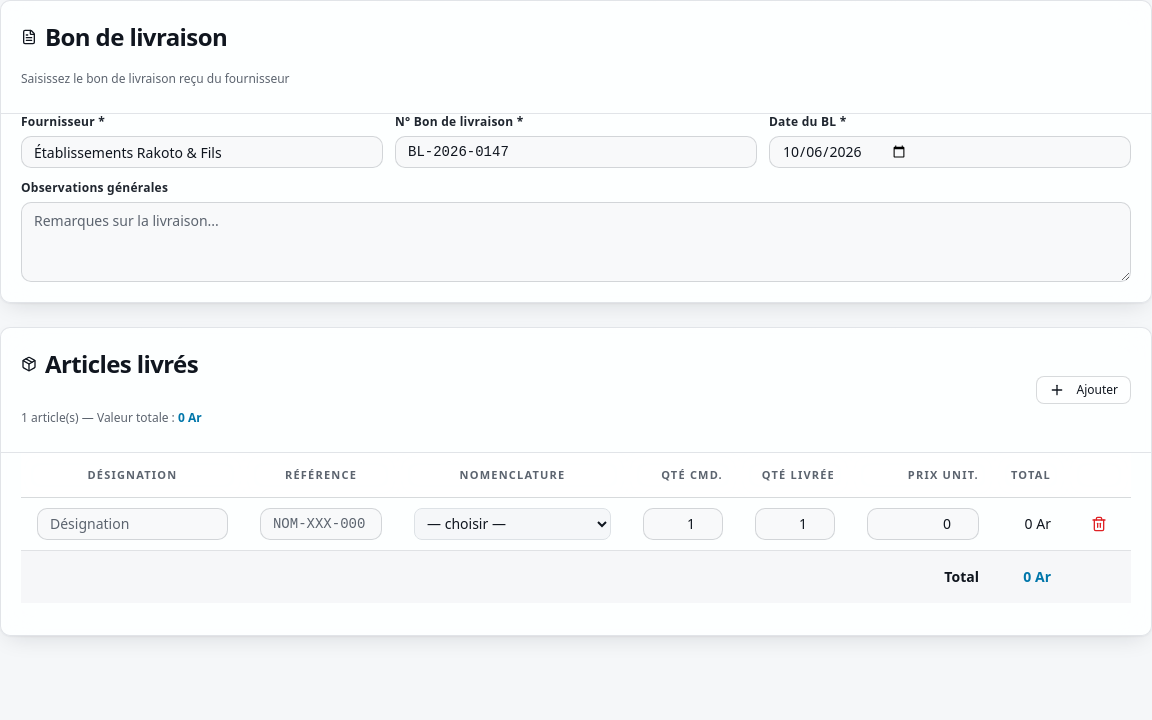
Test: Saisie étape 1 — rapprochement fiable de la désignation › 1. une désignation proche d'un matériel existant déclenche une suggestion
The image size is (1152, 720).
Type "Routeur Cisco RV 340" into the field with placeholder "Désignation". click: (132, 524)
box: [37, 508, 228, 540]
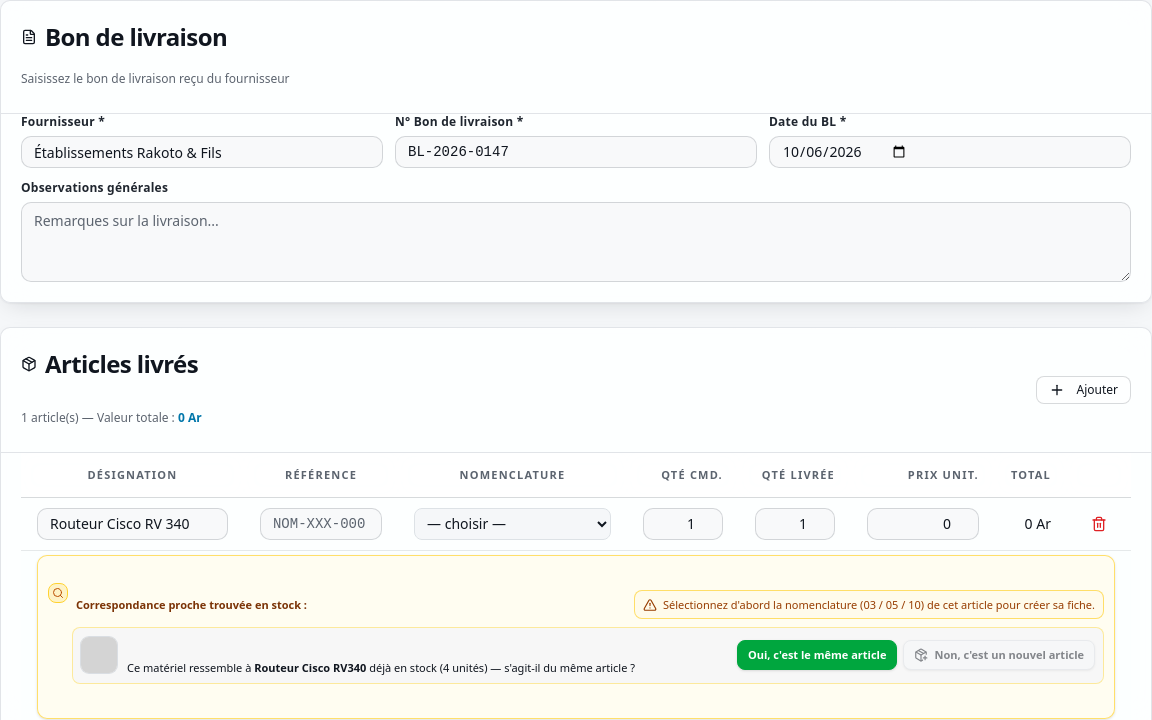
Expected: the message with test id "suggestion-rapprochement-art-1" is shown, [37, 554, 1115, 719]
Expected: the text "Ce matériel ressemble à" is shown, [127, 660, 251, 675]
Expected: the text "Routeur Cisco RV340" is shown, [254, 660, 366, 675]
